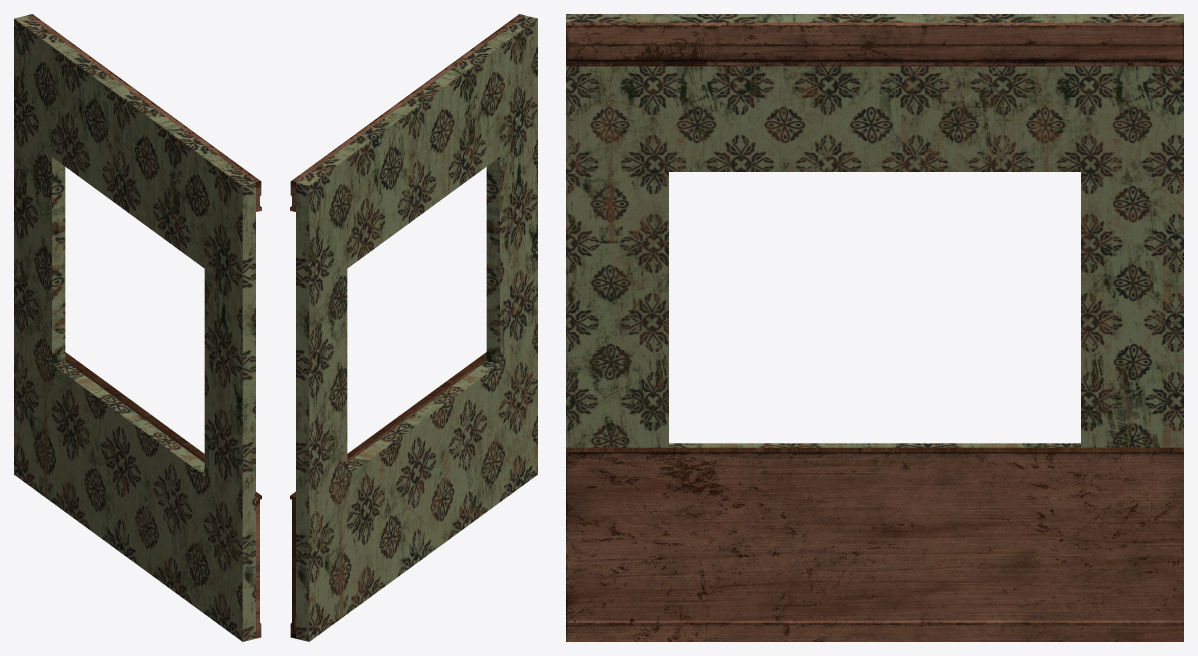
The model's file is Wall_Window_3m_A.fbx.
3 renders of one model, left to right at view 1: azimuth 30°, elevation 25°; view 2: azimuth 150°, elevation 25°; view 3: azimuth 270°, elevation 25°, orthographic. The views are drawn at different scales.
Parts seen in each view (by area): view 1: Wall_Window_3m_A; view 2: Wall_Window_3m_A; view 3: Wall_Window_3m_A.
Part boxes in pixels (x1,y1,x2,y2): Wall_Window_3m_A: (14,14,261,641); Wall_Window_3m_A: (290,14,537,641); Wall_Window_3m_A: (566,14,1183,641).
Size of the model in its own units: 0.1458 by 3 by 3.3.
Materials: 2 (2 with a texture image).
